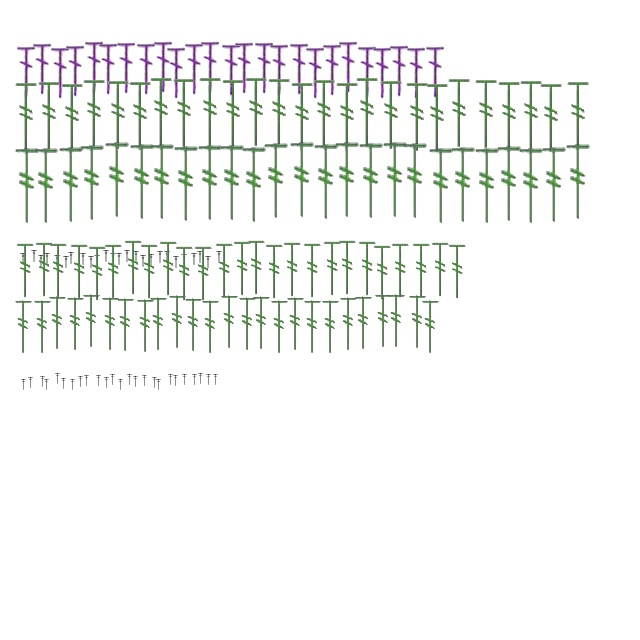double treble: (17, 44, 35, 98), (33, 41, 51, 95), (51, 45, 69, 99), (66, 43, 84, 97), (85, 39, 103, 93), (99, 41, 117, 95), (117, 40, 135, 94), (137, 41, 155, 95), (154, 39, 172, 93), (167, 45, 185, 99), (185, 41, 203, 95), (201, 39, 219, 93), (222, 42, 240, 96), (235, 40, 253, 94), (255, 40, 273, 94), (270, 42, 288, 96), (290, 41, 308, 95), (306, 45, 324, 99), (323, 42, 341, 96), (339, 39, 357, 93), (358, 44, 376, 98), (373, 45, 391, 99), (390, 43, 408, 97), (407, 45, 425, 99), (426, 44, 444, 98), (20, 253, 26, 265), (31, 250, 37, 262), (38, 255, 44, 267), (44, 253, 50, 265), (54, 255, 60, 267), (63, 256, 69, 268), (68, 252, 74, 264), (80, 253, 86, 265), (88, 256, 94, 268), (94, 255, 100, 267), (103, 250, 109, 262), (110, 253, 116, 265), (116, 253, 122, 265), (124, 250, 130, 262), (133, 251, 139, 263), (140, 255, 146, 267), (148, 254, 154, 266), (157, 251, 163, 263), (164, 251, 170, 263), (173, 256, 179, 268), (181, 254, 187, 266), (191, 253, 197, 265), (197, 251, 203, 263), (205, 256, 211, 268), (216, 251, 222, 263), (40, 376, 46, 388), (78, 376, 84, 388), (110, 374, 116, 386), (168, 374, 174, 386), (182, 374, 188, 386), (192, 374, 198, 386), (206, 374, 212, 386), (28, 378, 34, 388), (44, 380, 50, 390), (70, 380, 76, 390), (84, 376, 90, 386), (96, 376, 102, 386), (104, 378, 110, 388), (118, 380, 124, 390), (142, 376, 148, 386), (152, 378, 158, 388), (156, 380, 162, 390), (198, 374, 204, 384), (62, 378, 66, 390), (128, 374, 132, 386), (134, 376, 138, 388), (214, 374, 218, 386), (22, 380, 26, 390), (56, 374, 60, 384), (174, 376, 178, 386)
fan: (32, 147, 60, 225), (78, 144, 106, 222), (128, 143, 156, 221), (148, 143, 176, 221), (172, 145, 200, 223), (196, 144, 224, 222), (218, 144, 246, 222), (240, 146, 268, 224), (262, 142, 290, 220), (288, 141, 316, 219), (312, 143, 340, 221), (540, 146, 568, 224), (564, 143, 592, 221), (14, 147, 40, 225), (58, 146, 84, 224), (104, 141, 130, 219), (334, 141, 360, 219), (358, 142, 384, 220), (382, 141, 408, 219), (402, 142, 428, 220), (428, 147, 454, 225), (450, 146, 476, 224), (474, 147, 500, 225), (496, 145, 522, 223), (518, 147, 544, 225), (36, 80, 64, 152), (148, 76, 176, 148), (220, 78, 248, 150), (266, 77, 294, 149), (334, 81, 362, 153), (354, 76, 382, 148), (378, 79, 406, 151), (404, 81, 432, 153), (424, 82, 452, 154), (446, 77, 474, 149), (496, 80, 524, 152), (518, 79, 546, 151), (538, 82, 566, 154), (14, 81, 40, 153), (60, 82, 86, 154), (82, 78, 108, 150), (106, 79, 132, 151), (128, 80, 154, 152), (172, 77, 198, 149), (198, 76, 224, 148), (244, 76, 270, 148), (290, 81, 316, 153), (312, 78, 338, 150), (474, 78, 500, 150), (566, 80, 592, 152), (48, 242, 70, 300), (158, 240, 180, 298), (214, 242, 236, 300), (232, 240, 254, 298), (302, 242, 324, 300), (322, 240, 344, 298), (372, 244, 394, 302), (390, 242, 412, 300), (32, 298, 54, 356), (100, 295, 122, 353), (148, 295, 170, 353), (200, 298, 222, 356), (302, 298, 324, 356), (320, 298, 342, 356), (338, 295, 360, 353), (386, 292, 408, 350), (420, 298, 442, 356), (34, 242, 56, 298), (174, 246, 196, 302), (246, 240, 268, 296), (264, 244, 286, 300), (282, 242, 304, 298), (430, 242, 452, 298), (16, 242, 36, 300), (358, 240, 378, 298), (412, 242, 432, 300), (14, 298, 34, 356), (48, 294, 68, 352), (66, 295, 86, 353), (82, 292, 102, 350), (116, 296, 136, 354), (136, 297, 156, 355), (168, 293, 188, 351), (184, 296, 204, 354), (220, 293, 240, 351), (238, 295, 258, 353), (252, 294, 272, 352), (270, 298, 290, 356), (286, 295, 306, 353), (354, 294, 374, 352), (374, 292, 394, 350), (408, 293, 428, 351), (70, 244, 90, 300), (88, 246, 108, 302), (104, 244, 124, 300), (124, 240, 144, 296), (140, 244, 160, 300), (194, 246, 214, 302), (338, 240, 358, 296), (448, 244, 468, 300)
